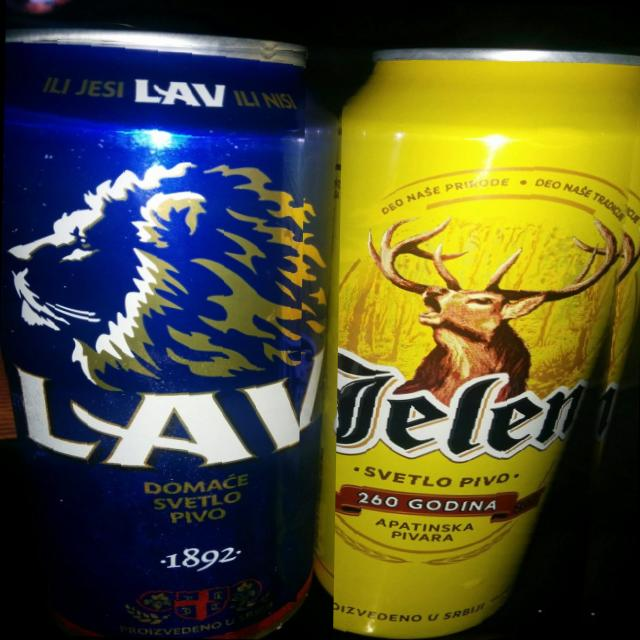Cans: (332, 58, 640, 640), (0, 36, 306, 601)
